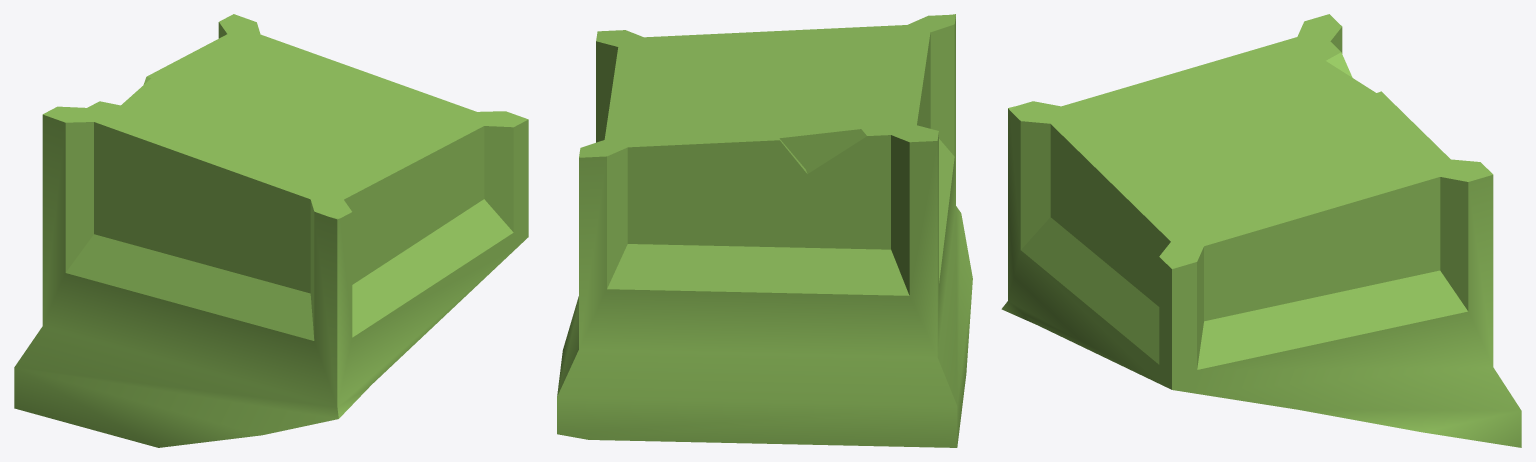
The model's file is Debris3.obj.
3 views of the same model, side by side, from view 1: azimuth 30°, elevation 25°; view 2: azimuth 150°, elevation 25°; view 3: azimuth 270°, elevation 25° (orthographic). The views are drawn at different scales.
Visible parts, largest first — view 1: Debris3; view 2: Debris3; view 3: Debris3.
Boxes of the visible parts, x1,y1,x2,y2 form: Debris3: [14, 14, 528, 447]; Debris3: [557, 14, 972, 447]; Debris3: [1001, 14, 1521, 447].
Size of the model in its own units: 5.78 by 3.71 by 5.85.
